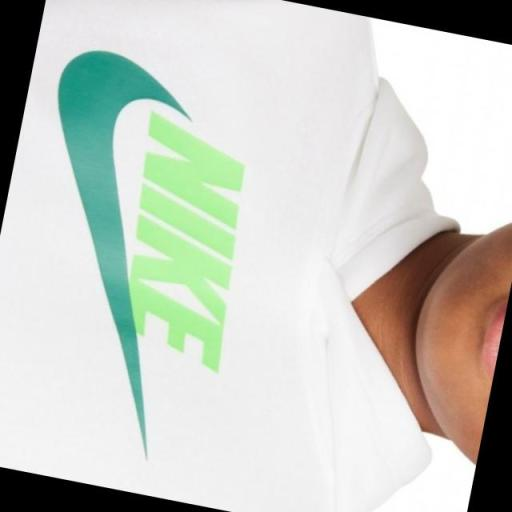Nike: (7, 42, 188, 372), (101, 108, 268, 378)
